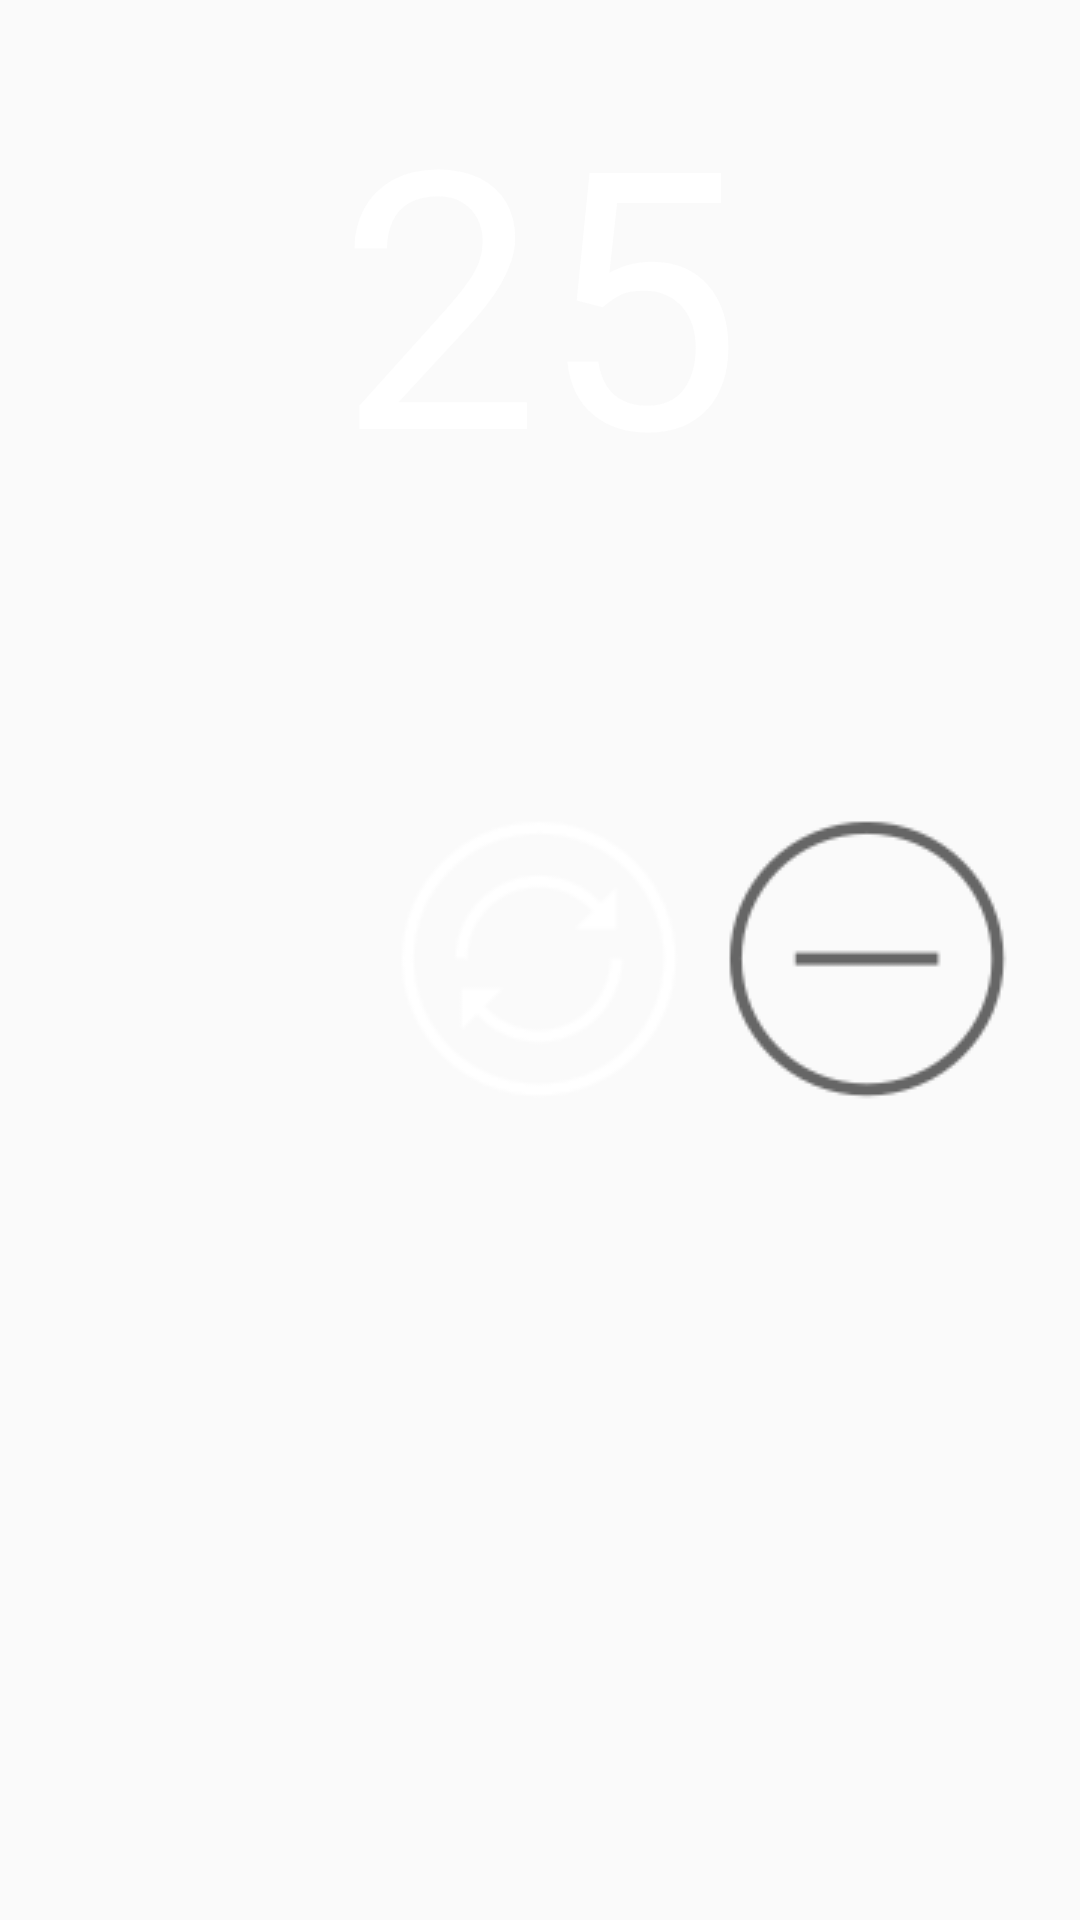

Icons on this 1080w x 1920h Android screen, each with its box as (x1, y1, x2, y2):
minus: (729, 821, 1005, 1097)
